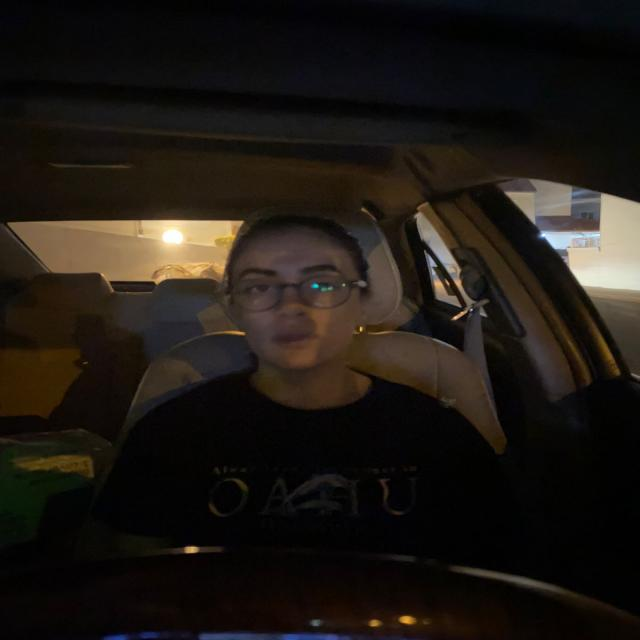person: (217, 215, 382, 392)
